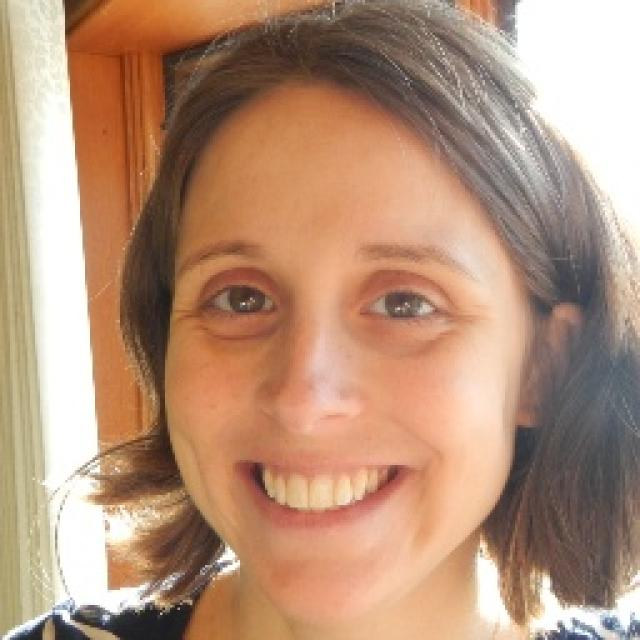earlobe: (514, 390, 552, 431)
eye: (356, 287, 444, 326), (201, 284, 282, 321)
nose: (261, 407, 362, 449)
wholeear: (514, 300, 593, 430)
